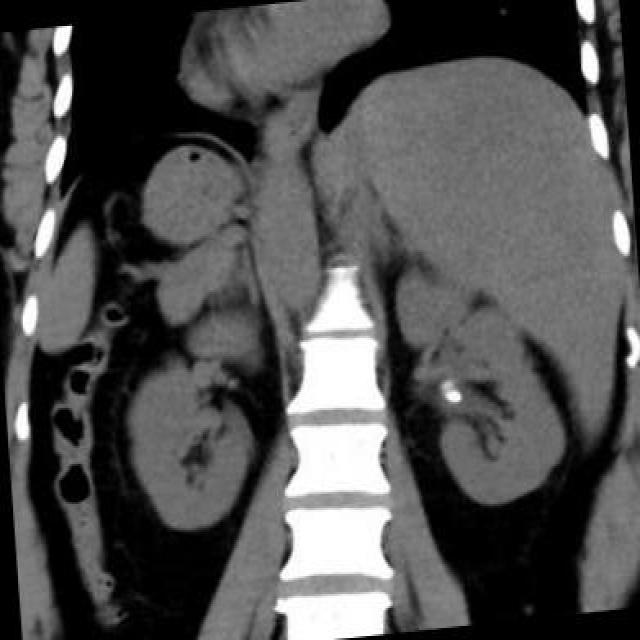Tas_Var: (440, 389, 464, 407), (437, 379, 455, 391)
